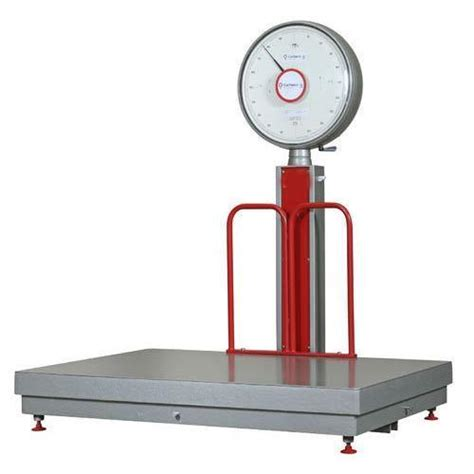Industrial Scale: (12, 20, 455, 459)
